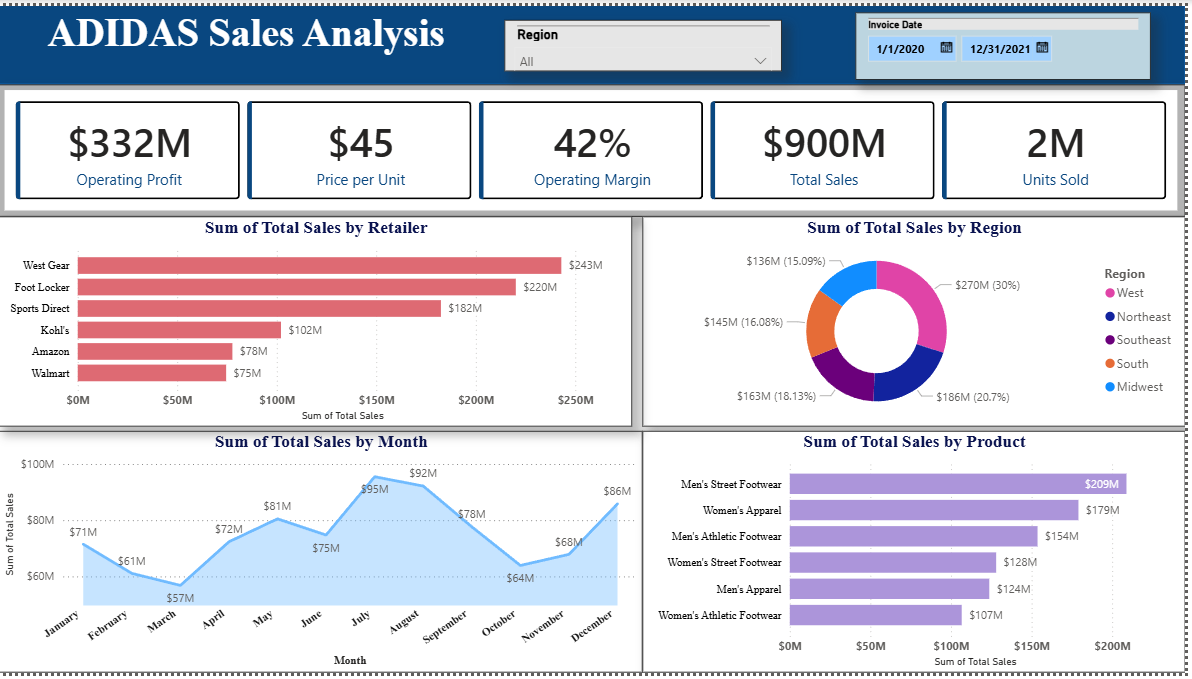

Layout of this report page (visuals, bound fields, positions):
{"tool":"powerbi","page":{"name":"Page 1","canvas":[1280,720],"ordinal":0},"visuals":[{"type":"shape","box":[0,0,1280.8,85.8],"z":0},{"type":"textbox","box":[47,0,615.3,85.8],"z":1000},{"type":"cardVisual","fields":{"Data":["Sum(Data Sales Adidas.Operating Profit)","Avg(Data Sales Adidas.Price per Unit)","Avg(Data Sales Adidas.Operating Margin)","Sum(Data Sales Adidas.Total Sales)","Sum(Data Sales Adidas.Units Sold)"]},"box":[0,85.8,1280.8,142.5],"z":2000},{"type":"areaChart","fields":{"Category":["Data Sales Adidas.Invoice Date.Variation.Date Hierarchy.Month"],"Y":["Sum(Data Sales Adidas.Total Sales)"]},"box":[0,459.9,694.6,260.7],"z":2001},{"type":"donutChart","fields":{"Category":["Data Sales Adidas.Region"],"Y":["Sum(Data Sales Adidas.Total Sales)"]},"box":[694.6,228.3,586.2,226.7],"z":2002},{"type":"barChart","fields":{"Category":["Data Sales Adidas.Product"],"Y":["Sum(Data Sales Adidas.Total Sales)"]},"box":[694.6,459.9,586.2,260.7],"z":2003},{"type":"barChart","fields":{"Y":["Sum(Data Sales Adidas.Total Sales)"],"Category":["Data Sales Adidas.Retailer"]},"box":[0,228.3,683.3,226.7],"z":2004},{"type":"slicer","fields":{"Values":["Data Sales Adidas.Region"]},"box":[545.7,16.2,299.6,55.1],"z":2005},{"type":"slicer","fields":{"Values":["Data Sales Adidas.Invoice Date"]},"box":[924.6,8.1,319,72.9],"z":2006}]}

Visuals, with their boxes in screenshot pixels (x1, y1, x2, y2), scaled from the page's 1280x720 canvas onto the 1192x679 screenshot:
shape: 0,0,1191,81
textbox: 44,0,617,81
cardVisual - Sum(Data Sales Adidas.Operating Profit) x Avg(Data Sales Adidas.Price per Unit): 0,81,1191,215
areaChart - Data Sales Adidas.Invoice Date.Variation.Date Hierarchy.Month x Sum(Data Sales Adidas.Total Sales): 0,434,647,678
donutChart - Data Sales Adidas.Region x Sum(Data Sales Adidas.Total Sales): 647,215,1191,429
barChart - Data Sales Adidas.Product x Sum(Data Sales Adidas.Total Sales): 647,434,1191,678
barChart - Sum(Data Sales Adidas.Total Sales) x Data Sales Adidas.Retailer: 0,215,636,429
slicer - Data Sales Adidas.Region: 508,15,787,67
slicer - Data Sales Adidas.Invoice Date: 861,8,1158,76
